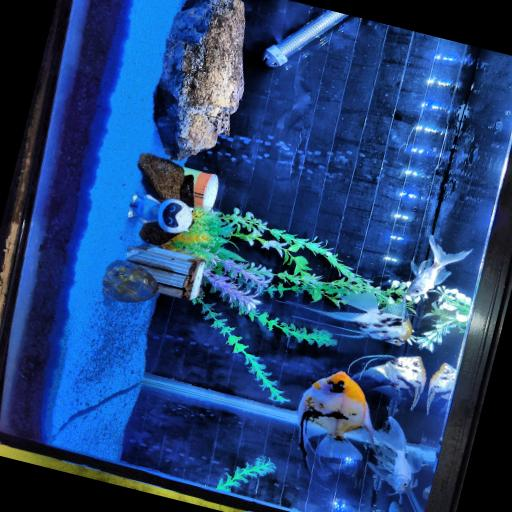Fish: (298, 371, 373, 459), (288, 291, 411, 344), (367, 416, 421, 493), (407, 234, 471, 296), (352, 354, 425, 408), (426, 362, 455, 412), (388, 501, 403, 511), (422, 485, 431, 498)
